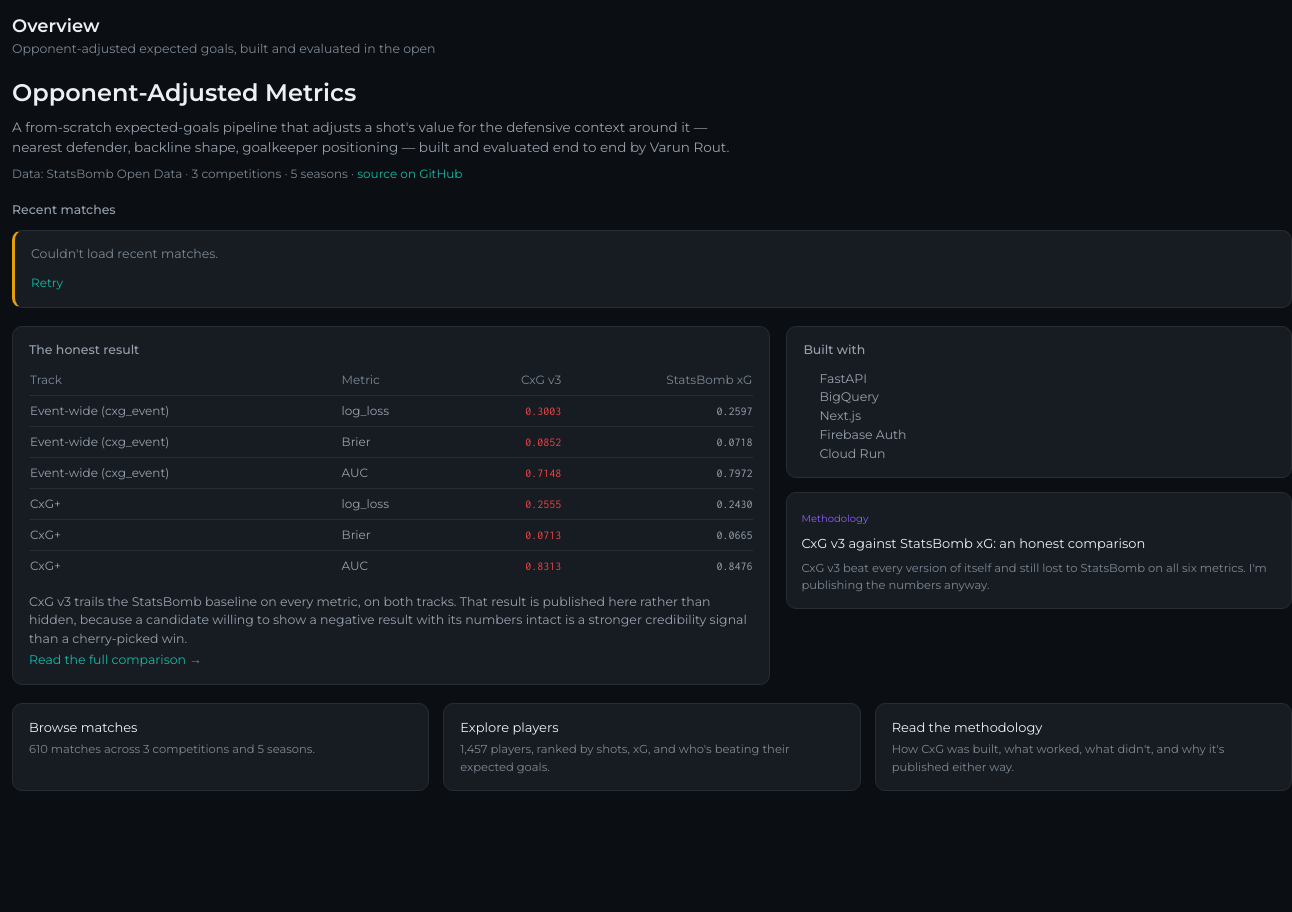
it: OverviewPage › shows a retry button when the matches strip fails to load
This screenshot has width=1292, height=912.
Check: the text "Couldn't load recent matches." is shown, box [31, 246, 218, 261]
What coordinates should you click on to do the following:
click the button "Retry"
I would click on:
 (47, 283)
Its box is [31, 274, 63, 292].
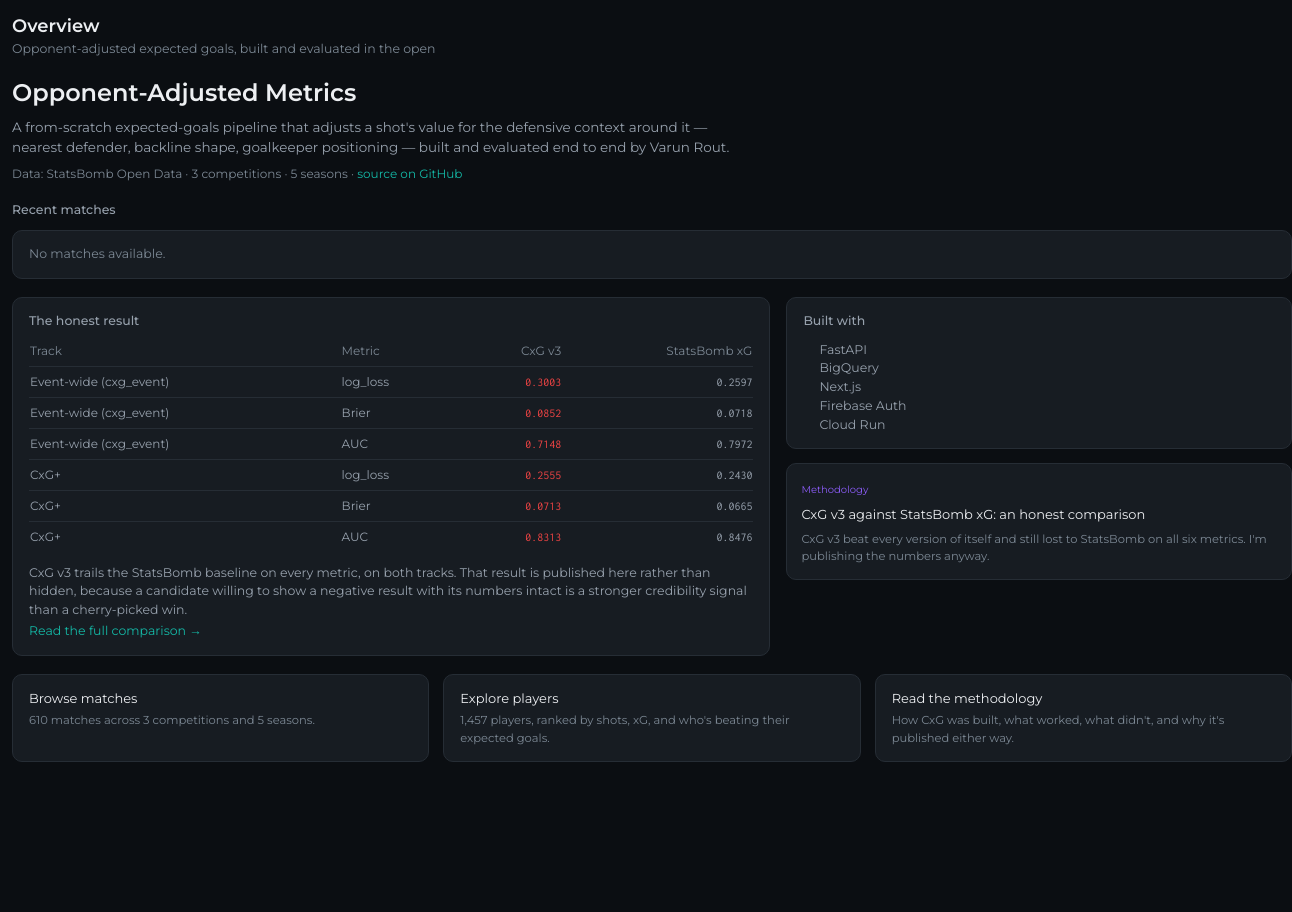
Check: the text "No matches available." is shown, box [29, 246, 165, 261]
